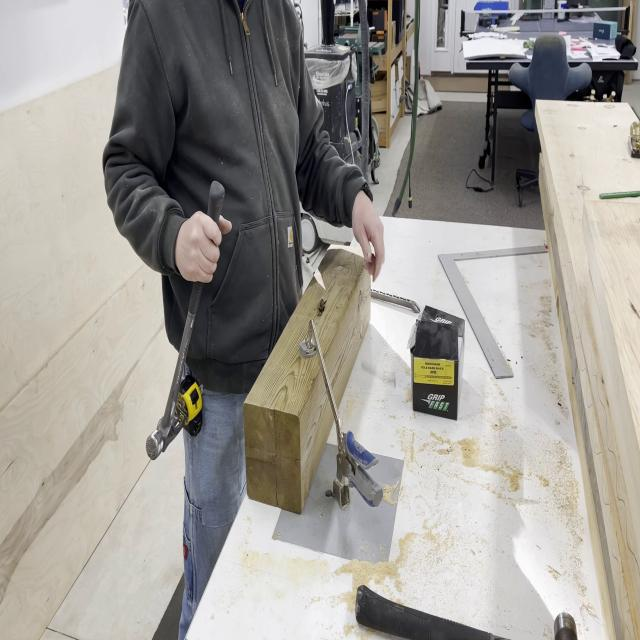hammer: (145, 179, 226, 460), (355, 584, 577, 640)
